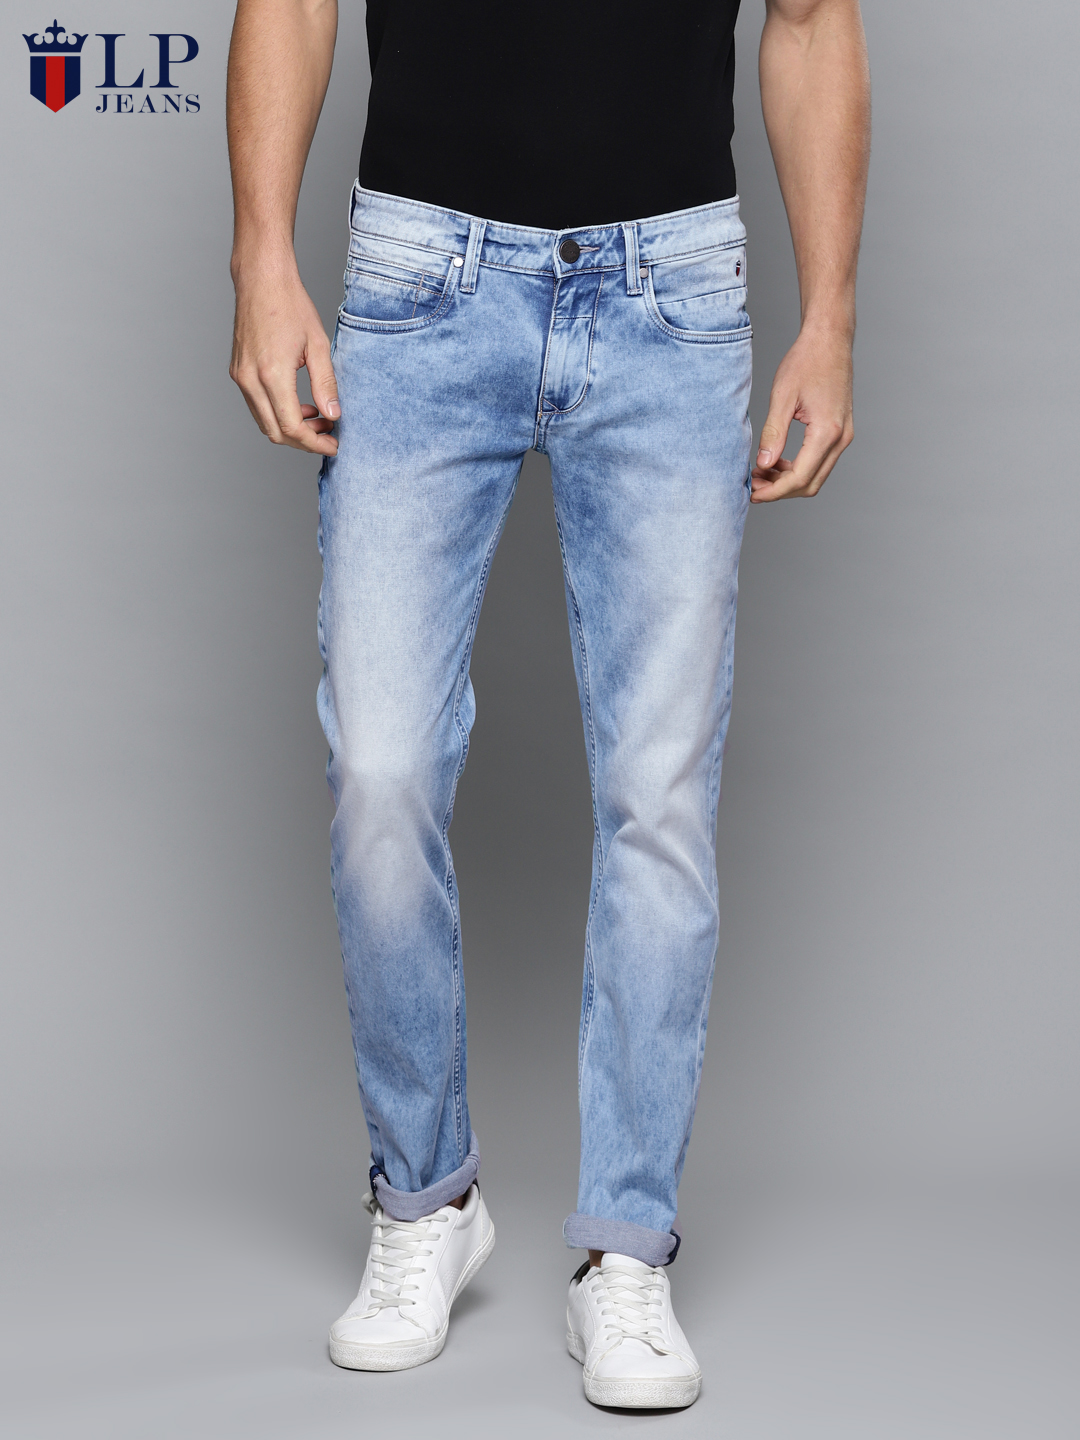jeans: (265, 175, 788, 1271)
